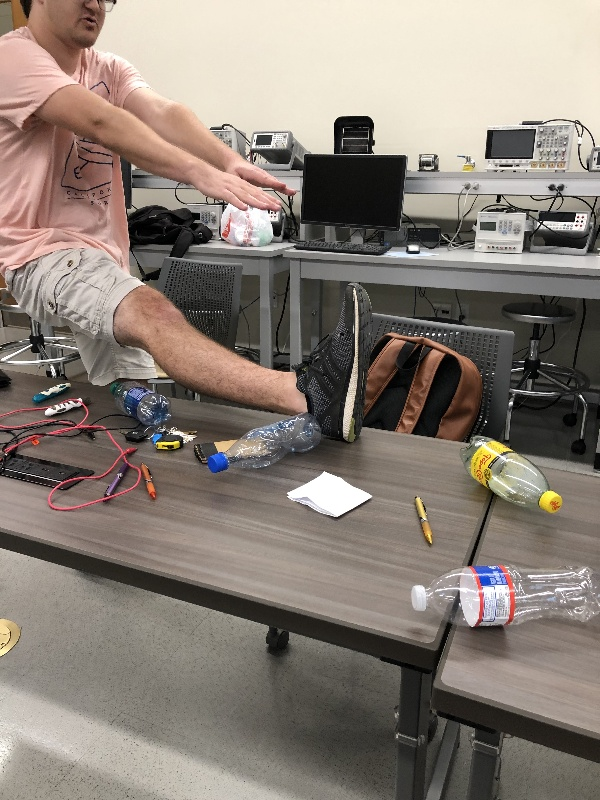bottle: (403, 558, 600, 637), (453, 430, 567, 521), (200, 415, 328, 477), (99, 373, 174, 429)
